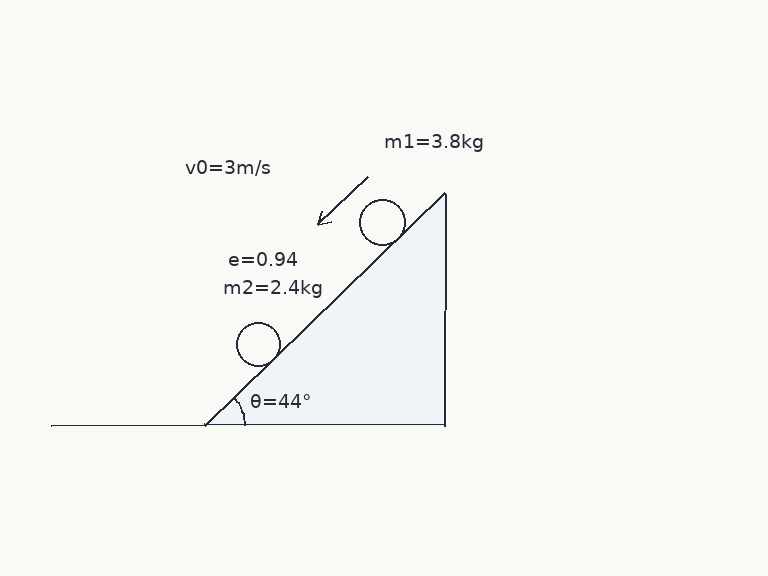ball: (357, 197, 407, 247), (234, 320, 282, 368)
ramp: (203, 192, 447, 427)
